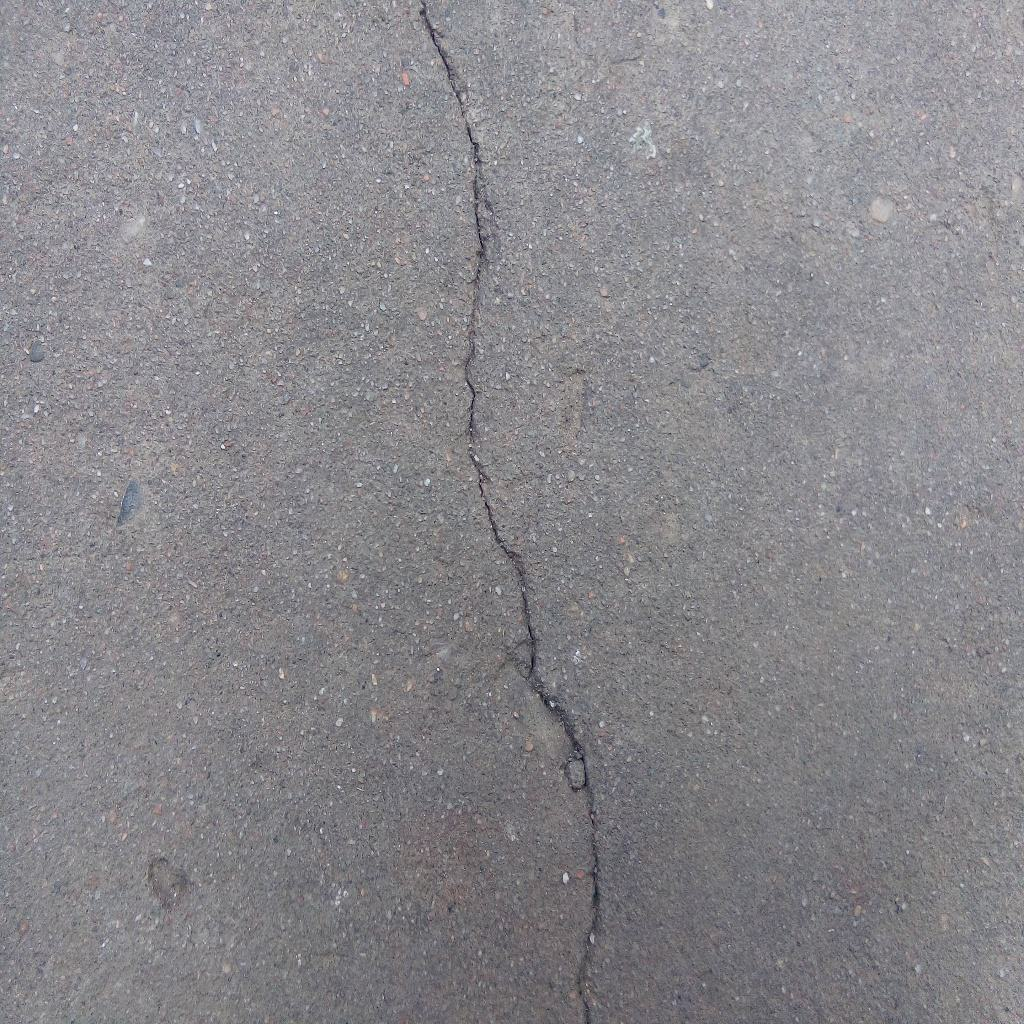Crack: (418, 1, 603, 1024)
